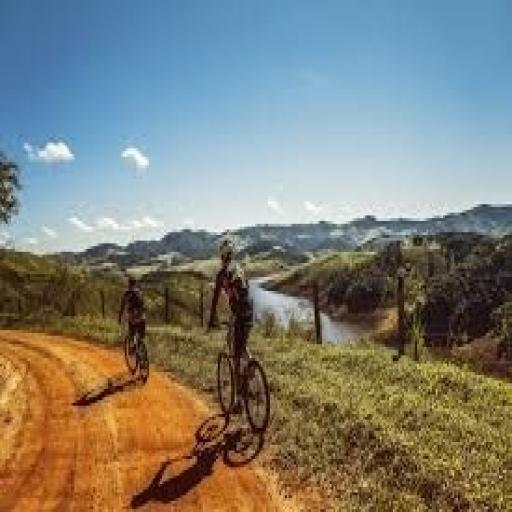cycling: (205, 235, 259, 422), (114, 268, 154, 392)
